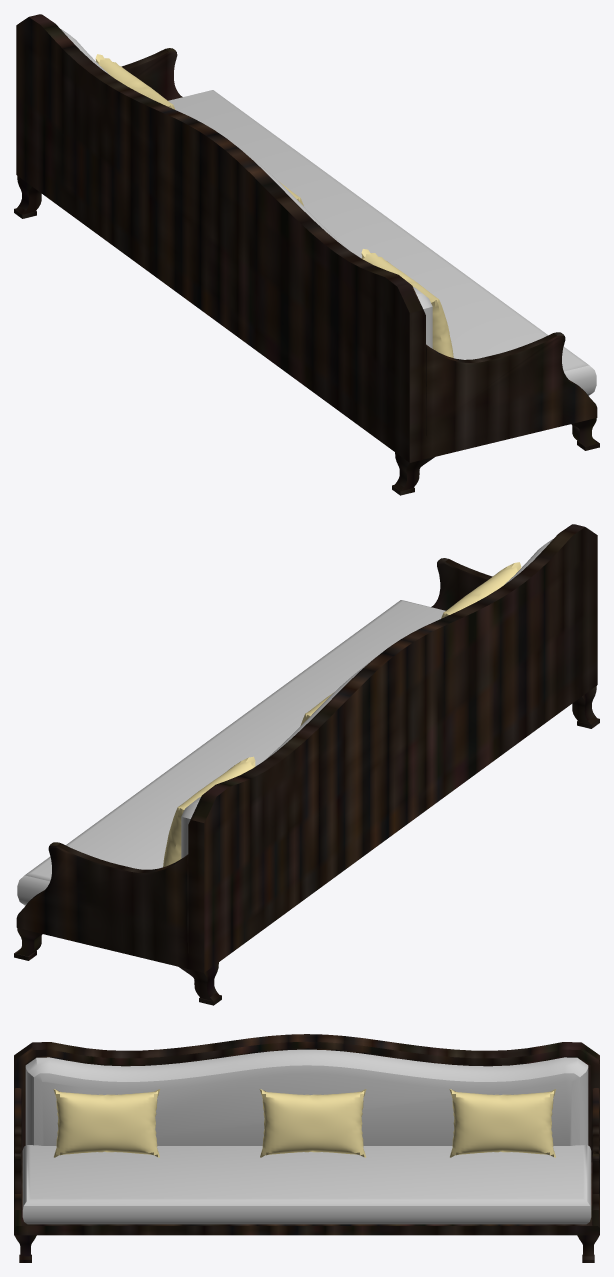
The model's file is Sofa.fbx.
3 renders of one model, top to bottom at view 1: azimuth 30°, elevation 25°; view 2: azimuth 150°, elevation 25°; view 3: azimuth 270°, elevation 25°, orthographic. The views are drawn at different scales.
Parts seen in each view (by area): view 1: Cube.002; view 2: Cube.002; view 3: Cube.002.
Part boxes in pixels (box(x1,y1,x2,y2)): Cube.002: box(14, 14, 599, 495); Cube.002: box(14, 524, 599, 1005); Cube.002: box(14, 1034, 599, 1262).
Size of the model in its own units: 147 by 149 by 500.
